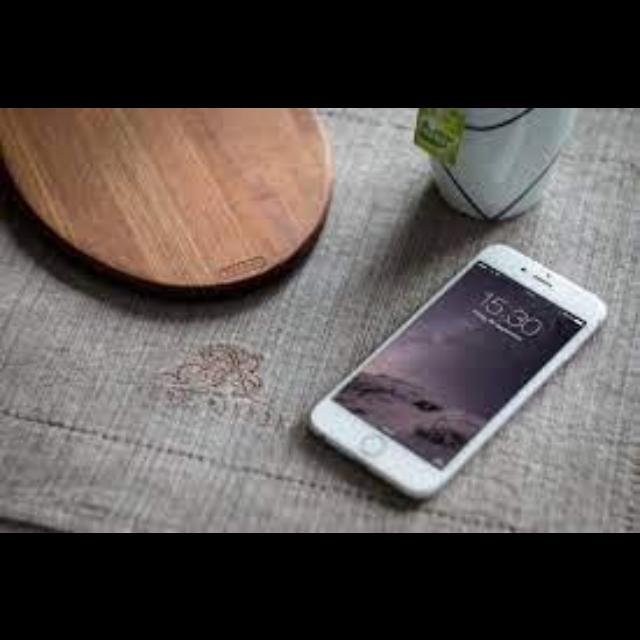Phone: (304, 242, 608, 502)
